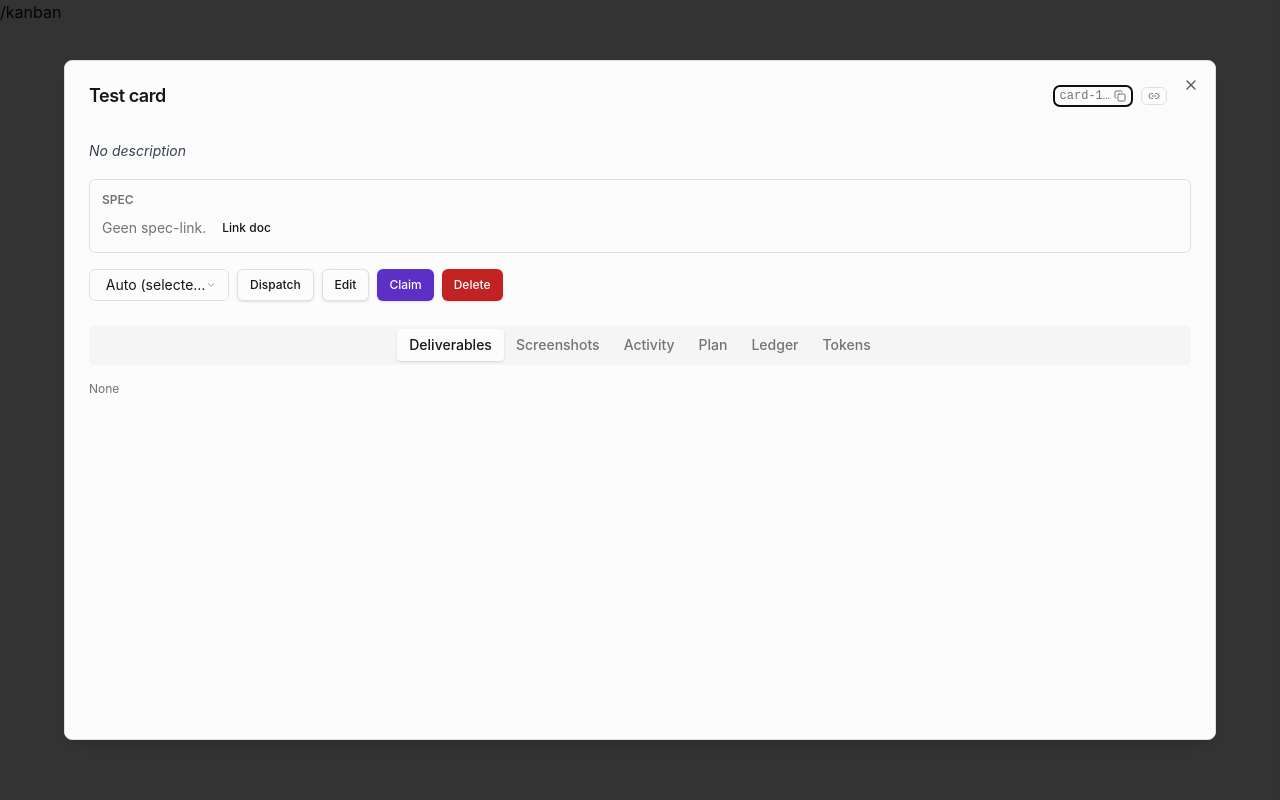
Test: CardDrawer Ledger tab › renders per-step empty/note states without crashing when sources are missing
Press the mouse on the tab "Ledger" at (775, 345), box [739,329,810,361]
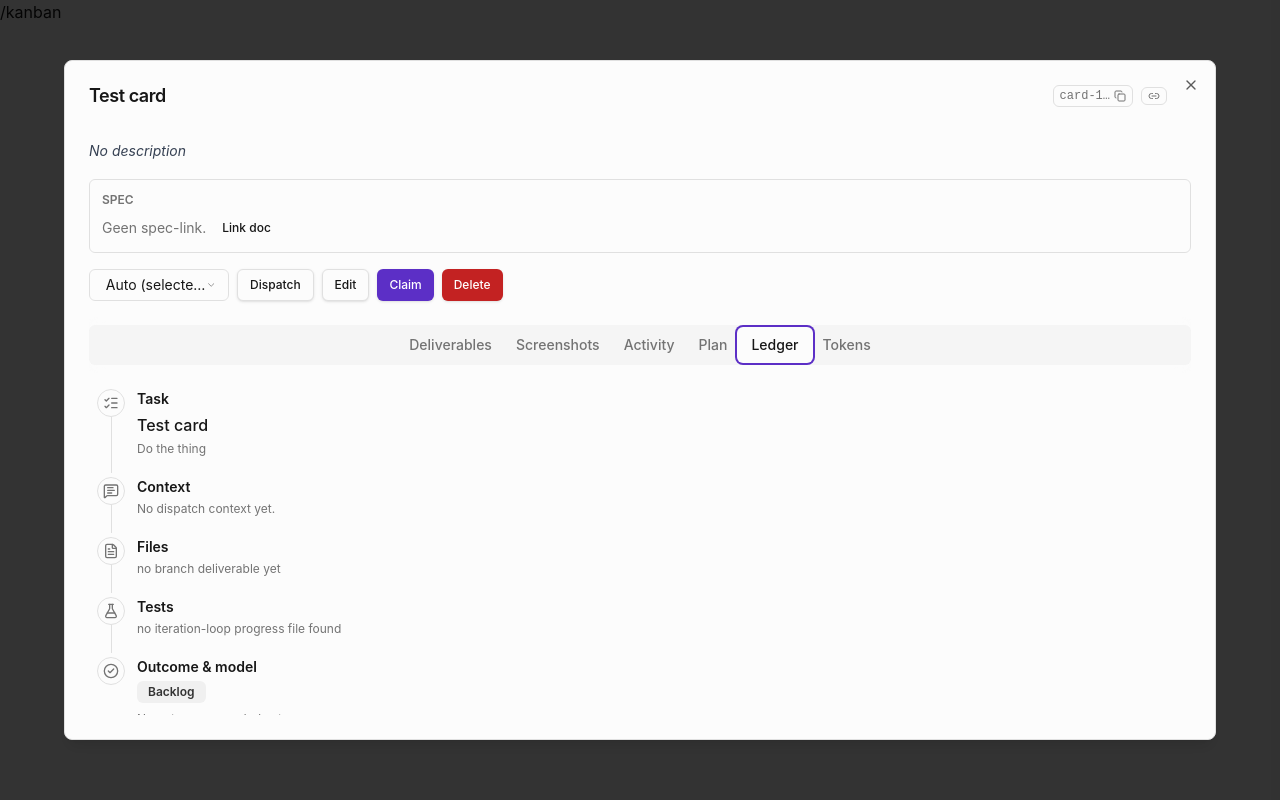
Expected: the list with test id "ledger-timeline" shows "no branch deliverable yet", [137,561,281,576]
Expected: the list with test id "ledger-timeline" shows "no iteration-loop progress file found", [137,621,341,636]
Expected: the list with test id "ledger-timeline" shows "No dispatch context yet", [137,501,275,516]
